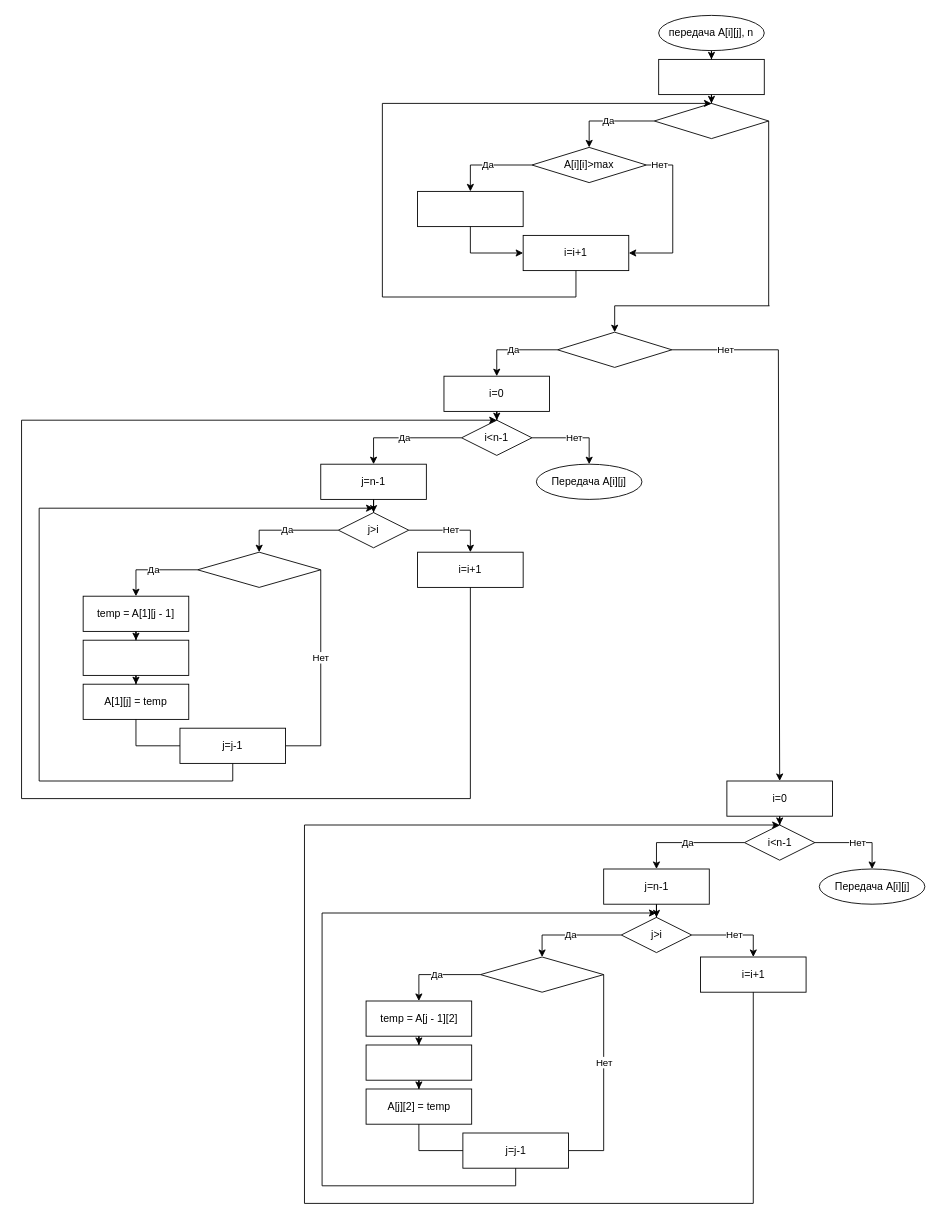
Some shapes in this 941 by 1220 pixel diagram are drawn without their labels. The shapes that lost their labels are listed below. From the top down, each one's centre as x and y in pixels, then its label:
At point (711, 77): "i=0, max=A[0][0]".
At point (711, 121): "i<n".
At point (470, 209): "max=A[i][i]".
At point (614, 349): "max>10".
At point (259, 569): "A[1][j-1]>A[1][j]".
At point (135, 657): "A[1][j - 1] = A[1][j]".
At point (542, 974): "A[j - 1][2] > A[j][2]".
At point (418, 1062): "A[j - 1][2] = A[j][2]".
